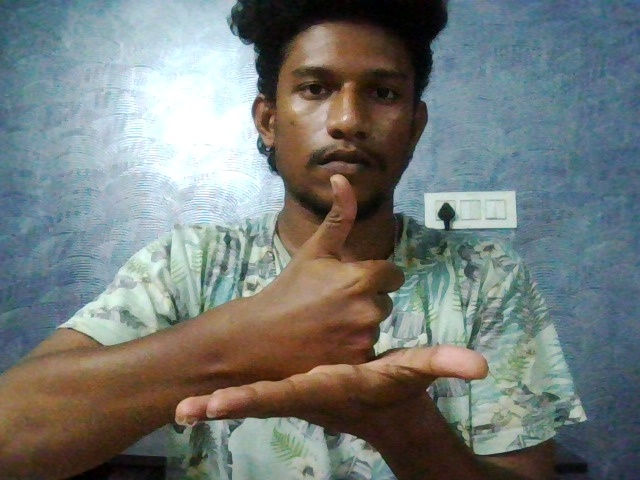help: (143, 168, 538, 454)
